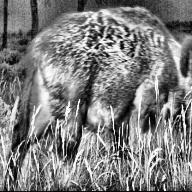boar: (14, 0, 192, 152)
